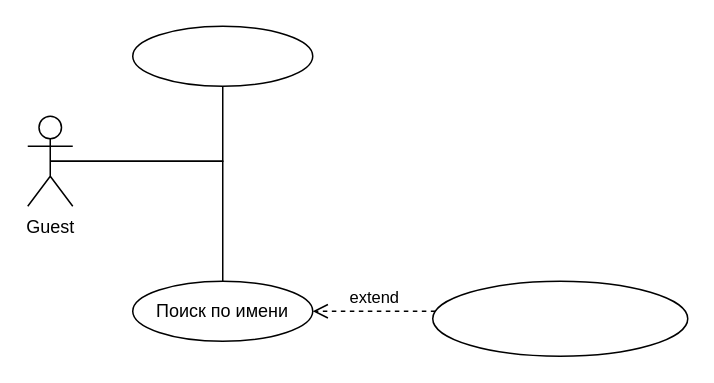
Some shapes in this 714 by 383 pixel diagram are drawn without their labels. Each missing label, with the centre of its shape:
"Просмотр профилей других пользователей" belongs at (559,318).
"Регистрация" belongs at (222,55).
